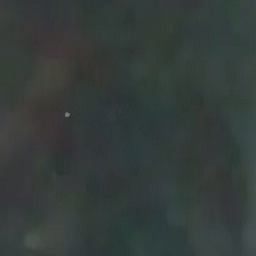Target: (63, 111, 71, 119)
